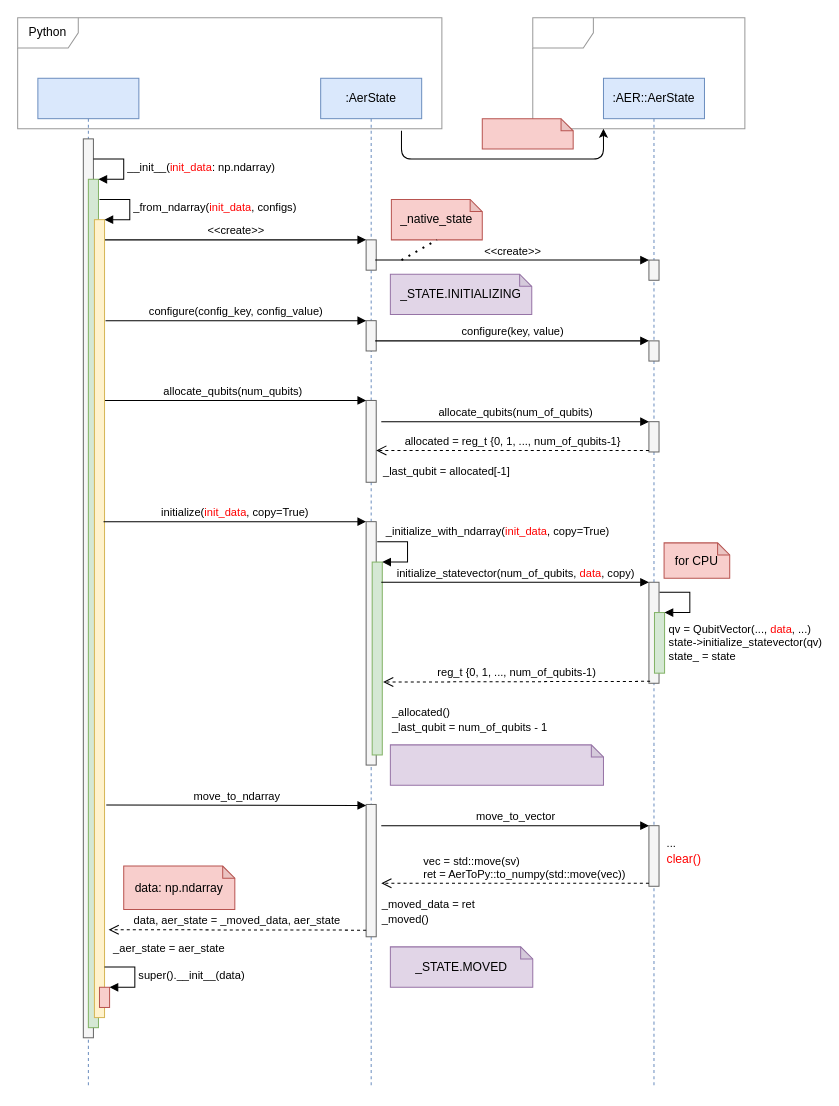
Some shapes in this 839 by 1106 pixel diagram are drawn without their labels. The shapes that lost their labels are listed below. From the top down, each one's centre as x and y in pixels, then its label:
(x=638, y=73): C++
(x=527, y=133): bindings.cc
(x=88, y=582): :AerStateVector
(x=496, y=764): _STATE.ALLOCATED (MAPPED)
